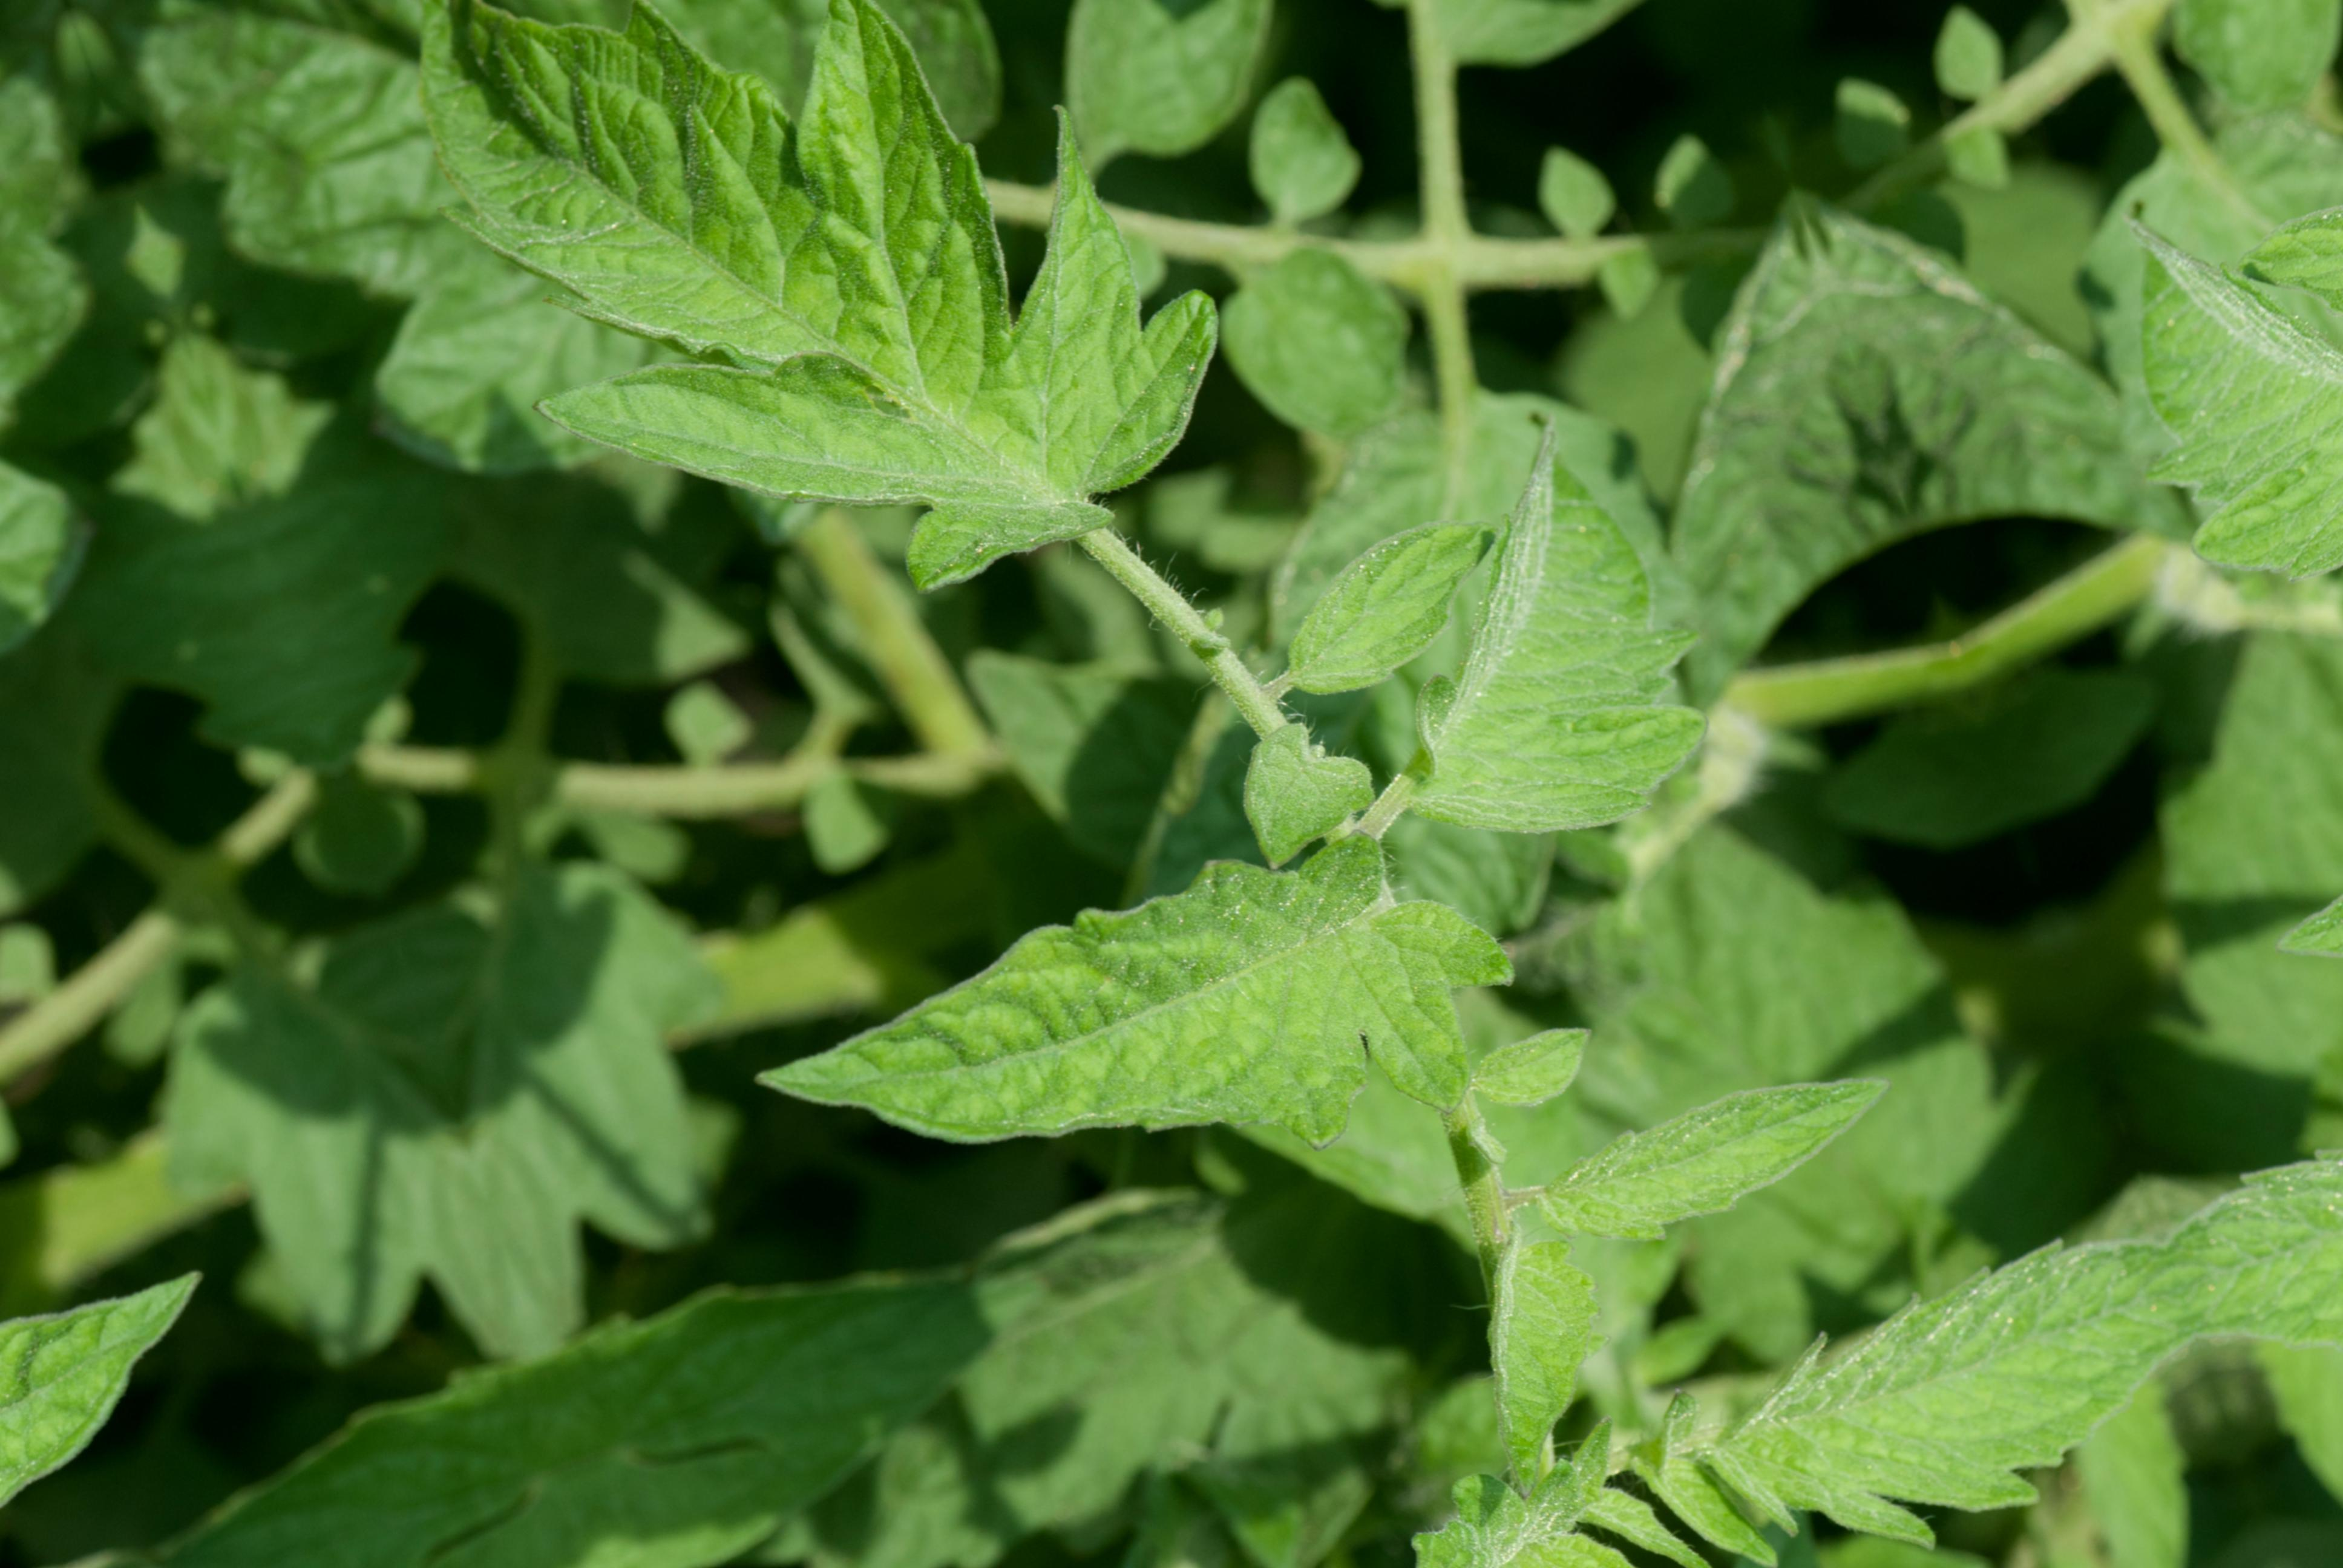Tomato leaf: (367, 0, 1272, 859), (717, 773, 1585, 1367), (1227, 362, 1808, 934), (971, 1365, 1778, 1568)
